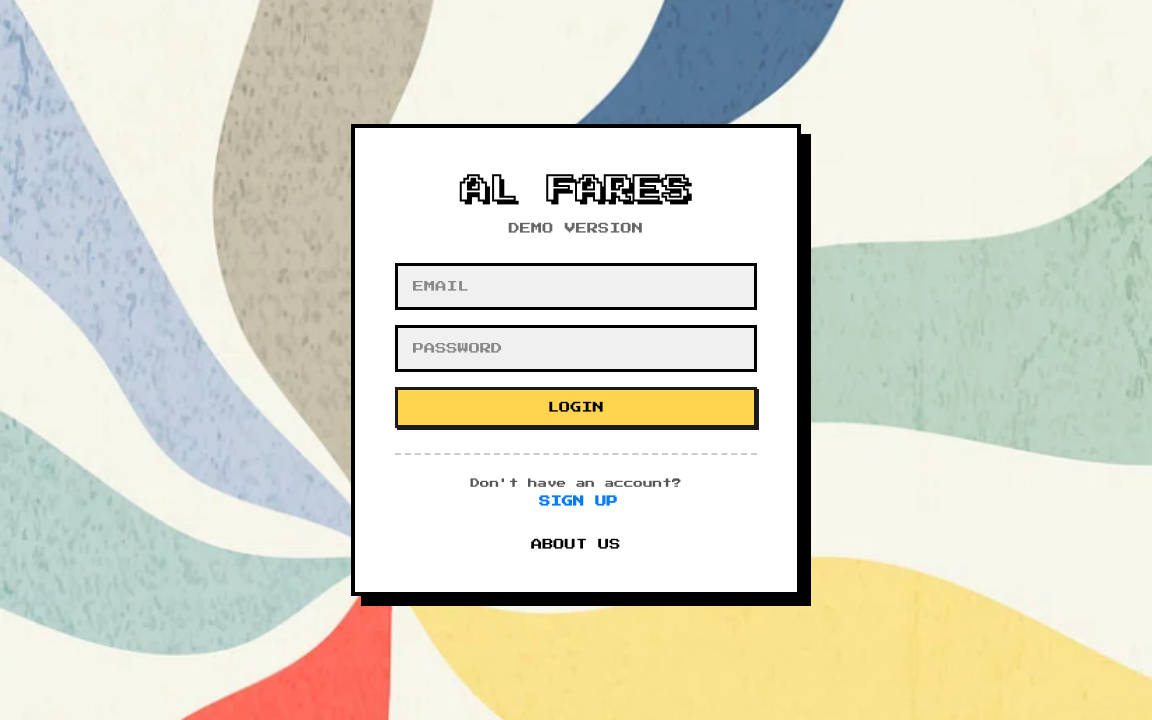
LoginForm Component Tests › shows success message on valid login
Type "wezza@test.com" into the field with placeholder "EMAIL" at (576,286), box [395, 263, 757, 310]
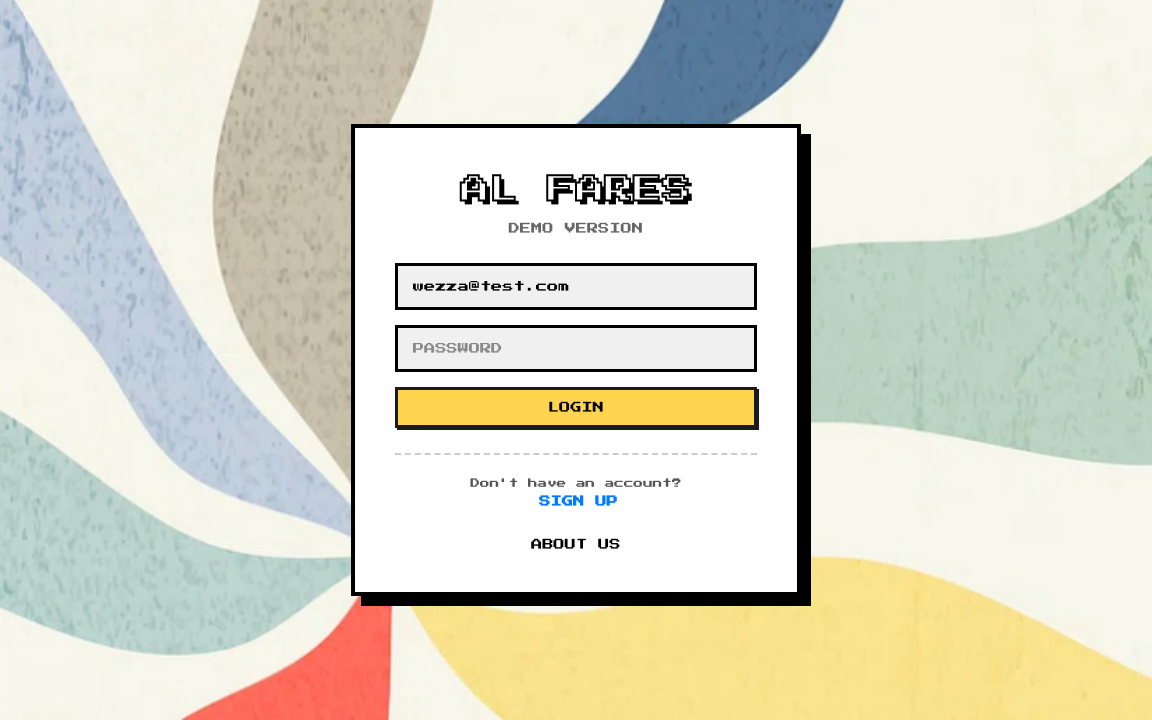
Type "correctpass" into the password field with placeholder "PASSWORD" at (576,348), box [395, 325, 757, 372]
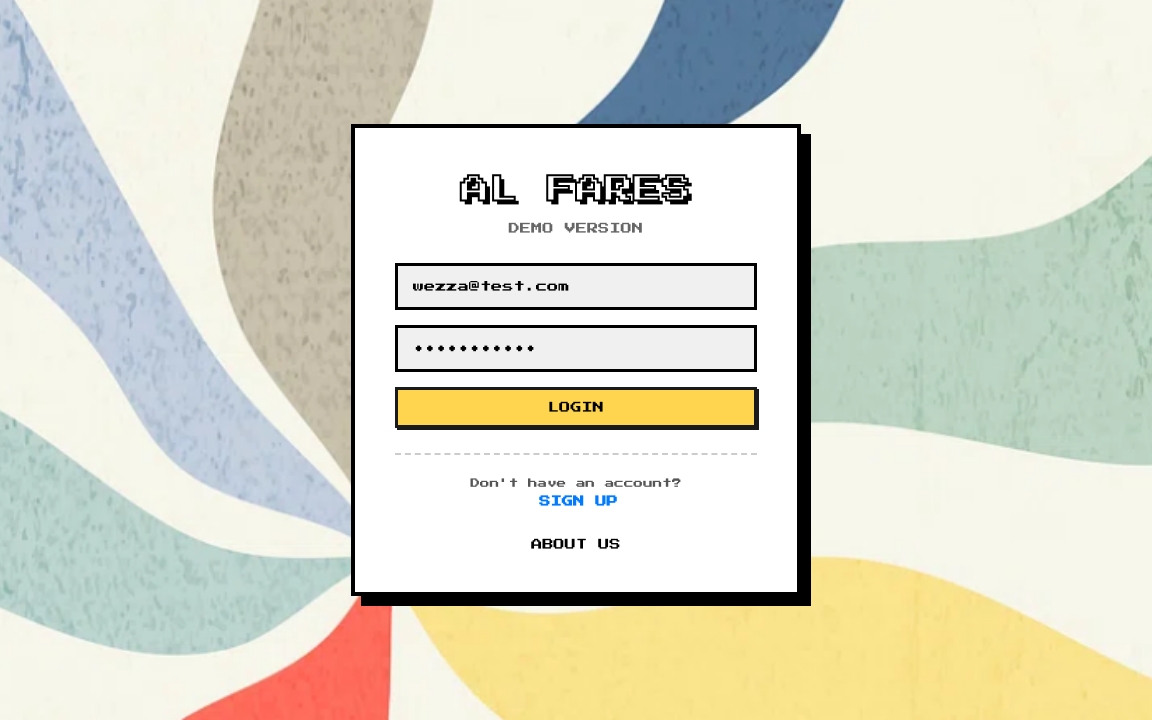
Click the button "LOGIN" at (576,407), box [395, 387, 757, 428]
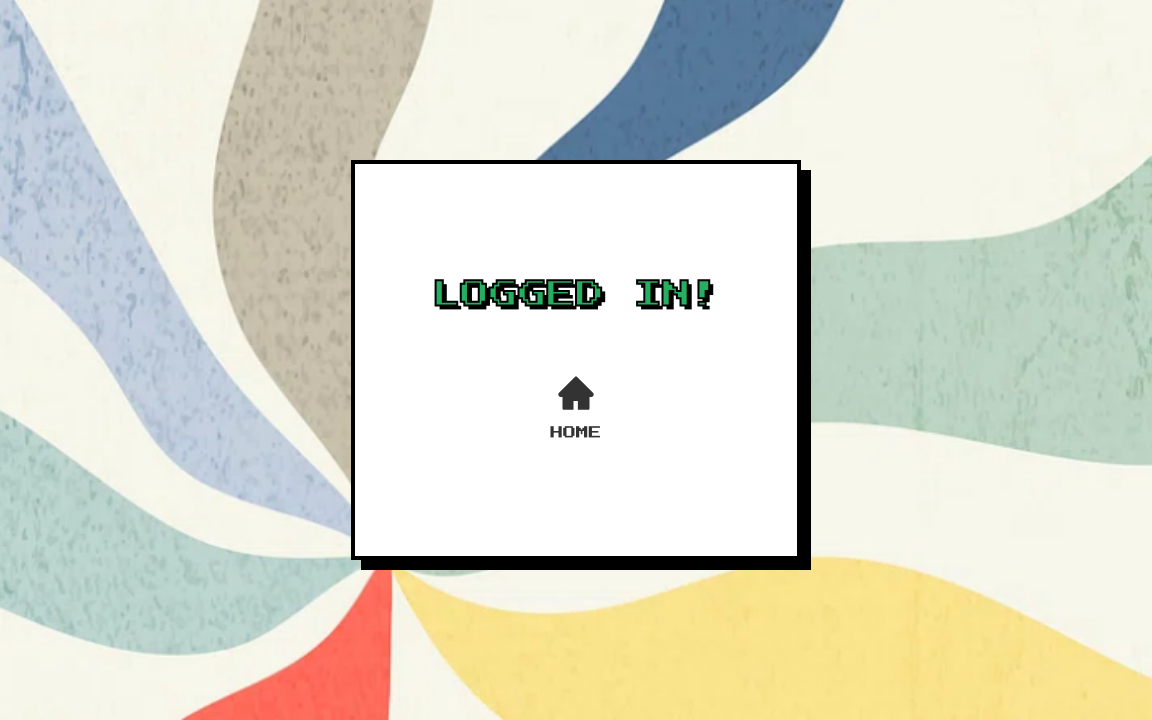
Now the heading "LOGGED IN!" is shown, box [432, 273, 720, 316]
